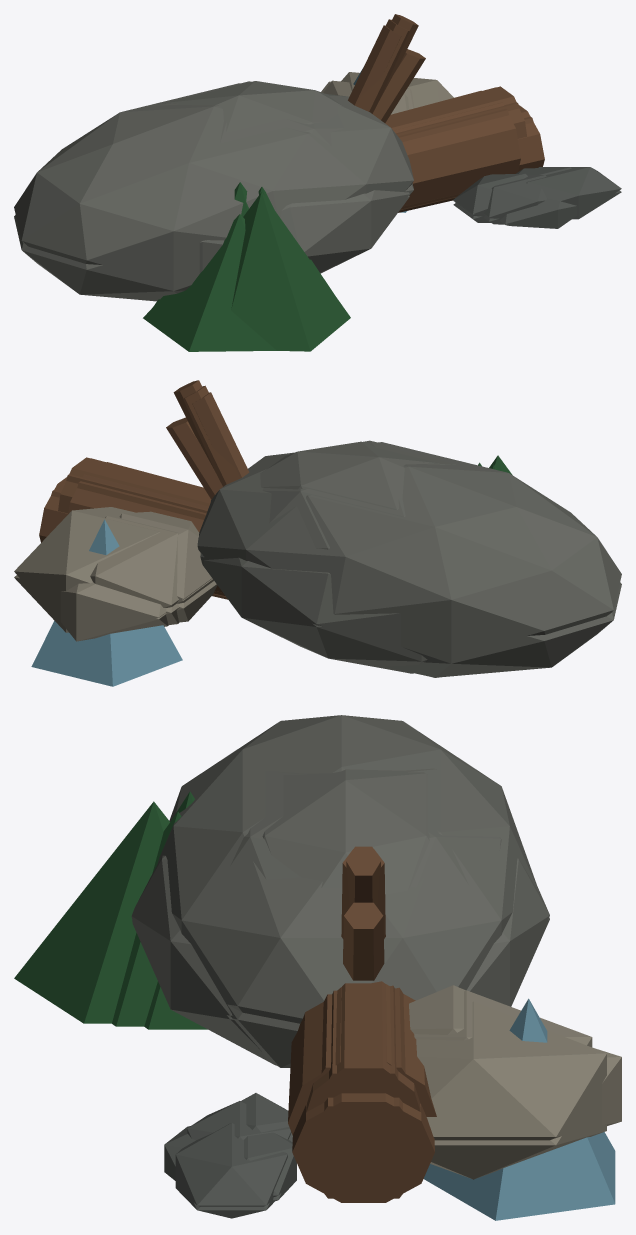
File: terrain.9307a8edc4d6.glb
3 views of the same model, one above another, from view 1: azimuth 30°, elevation 25°; view 2: azimuth 150°, elevation 25°; view 3: azimuth 270°, elevation 25° (orthographic). The views are drawn at different scales.
Visible parts, largest first — view 1: fallen-pine__near, granite-outcrop__near, dry-scrub__near, wild-grass__near, hill-boulders__near, cattail-clump__near, grass-tufts__near, shore-reeds__near, mushroom-ring__near, ground-log__near, granite-outcrop__mid, mushroom-ring__mid; view 2: fallen-pine__near, grass-tufts__near, hill-boulders__near, cattail-clump__near, ground-log__near, wild-grass__near, shore-reeds__near, mushroom-ring__near, granite-outcrop__near, dry-scrub__near, granite-outcrop__mid, mushroom-ring__mid (+1 smaller); view 3: fallen-pine__near, granite-outcrop__near, hill-boulders__near, dry-scrub__near, ground-log__near, cattail-clump__near, shore-reeds__near, mushroom-ring__near, wild-grass__near, dry-scrub__mid, grass-tufts__near, mushroom-ring__mid (+3 smaller).
Part boxes in pixels (<box>): fallen-pine__near: <box>14,72,621,284</box>; granite-outcrop__near: <box>231,19,520,351</box>; dry-scrub__near: <box>143,49,544,351</box>; wild-grass__near: <box>14,183,621,301</box>; hill-boulders__near: <box>165,81,527,215</box>; cattail-clump__near: <box>199,81,577,273</box>; grass-tufts__near: <box>199,195,577,273</box>; shore-reeds__near: <box>152,80,546,218</box>; mushroom-ring__near: <box>153,14,526,306</box>; ground-log__near: <box>258,25,406,291</box>; granite-outcrop__mid: <box>391,90,508,211</box>; mushroom-ring__mid: <box>390,87,519,136</box>; fallen-pine__near: <box>14,442,621,677</box>; grass-tufts__near: <box>60,563,427,673</box>; hill-boulders__near: <box>119,441,438,621</box>; cattail-clump__near: <box>60,557,425,673</box>; ground-log__near: <box>31,392,481,686</box>; wild-grass__near: <box>14,553,621,677</box>; shore-reeds__near: <box>90,440,457,624</box>; mushroom-ring__near: <box>58,380,497,513</box>; granite-outcrop__near: <box>68,385,512,592</box>; dry-scrub__near: <box>39,417,225,596</box>; granite-outcrop__mid: <box>77,462,225,597</box>; mushroom-ring__mid: <box>66,458,207,513</box>; fallen-pine__near: <box>157,715,606,1206</box>; granite-outcrop__near: <box>14,801,436,1135</box>; hill-boulders__near: <box>241,769,465,1142</box>; dry-scrub__near: <box>292,902,434,1202</box>; ground-log__near: <box>112,812,615,1220</box>; cattail-clump__near: <box>131,855,621,1175</box>; shore-reeds__near: <box>187,768,592,1140</box>; mushroom-ring__near: <box>171,791,420,1111</box>; wild-grass__near: <box>175,1004,606,1218</box>; dry-scrub__mid: <box>292,1097,433,1198</box>; grass-tufts__near: <box>132,917,621,1180</box>; mushroom-ring__mid: <box>313,985,412,1108</box>.
Size of the model in its own units: 0.8795 by 0.3335 by 0.5895.
